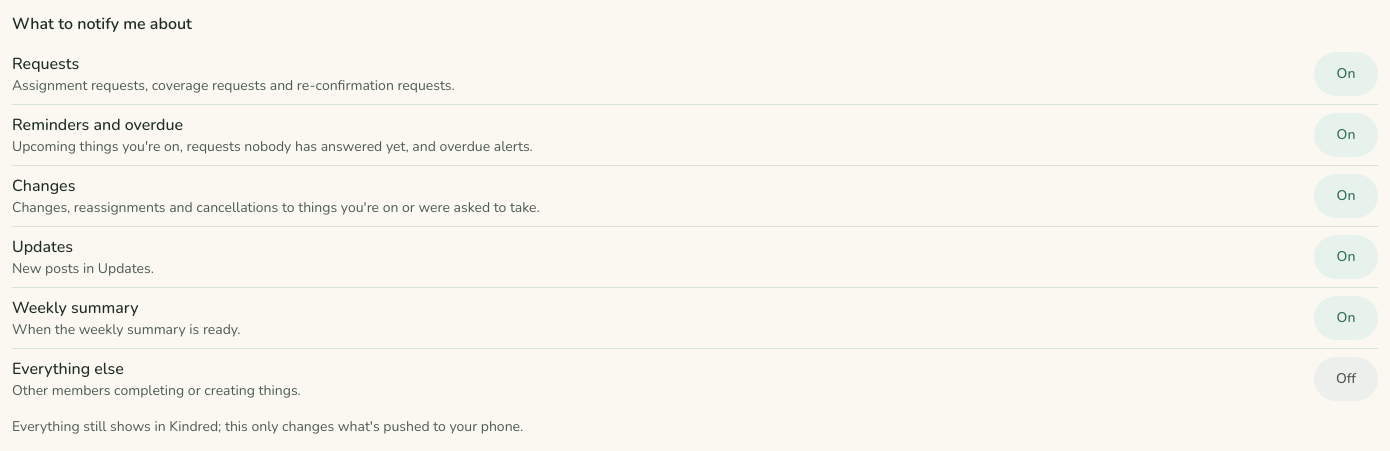
Test case: turning a category off saves just that category
Click the switch named "Changes". click: (1346, 196)
box: [1314, 174, 1378, 218]
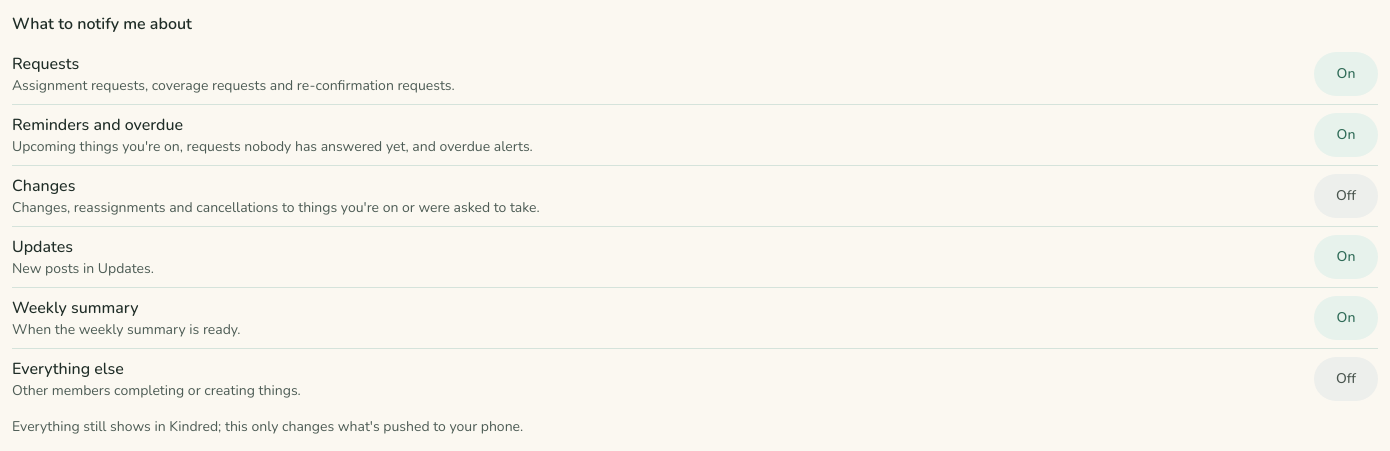
Check: the switch named "Requests" reads "On", box [1314, 52, 1378, 96]
Check: the 1st switch "Off" is shown, box [1314, 174, 1378, 218]
